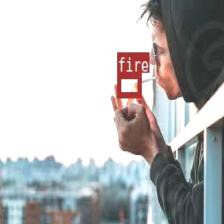fire: (117, 72, 141, 96)
